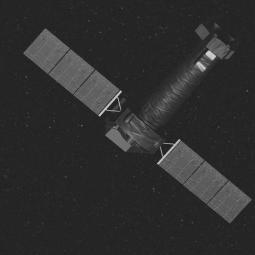xmm_newton: (42, 36, 250, 203)
